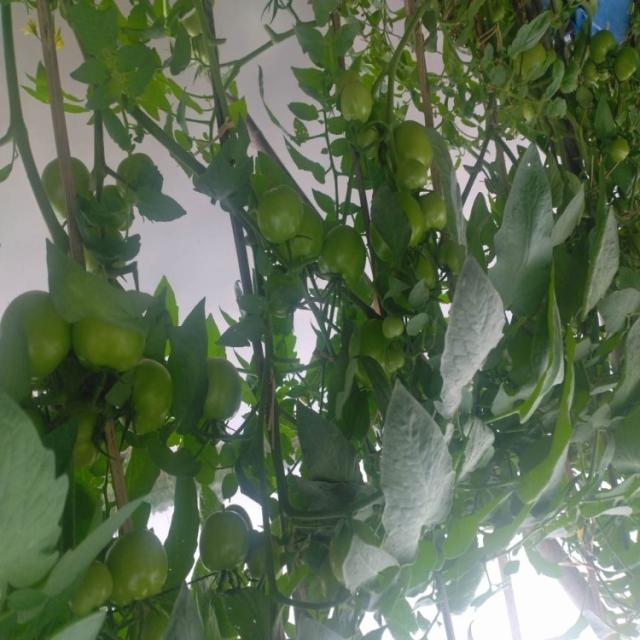tomato: (1, 280, 78, 380), (105, 358, 174, 444), (73, 299, 149, 375), (245, 177, 313, 256), (110, 527, 172, 610), (377, 114, 452, 174), (23, 150, 104, 205), (207, 507, 256, 580), (208, 355, 245, 436), (281, 217, 328, 267), (324, 223, 365, 278), (402, 189, 441, 243), (375, 309, 413, 349), (334, 85, 372, 122), (605, 135, 636, 176), (583, 31, 615, 66), (395, 157, 428, 190), (520, 46, 551, 80), (613, 46, 640, 81)
